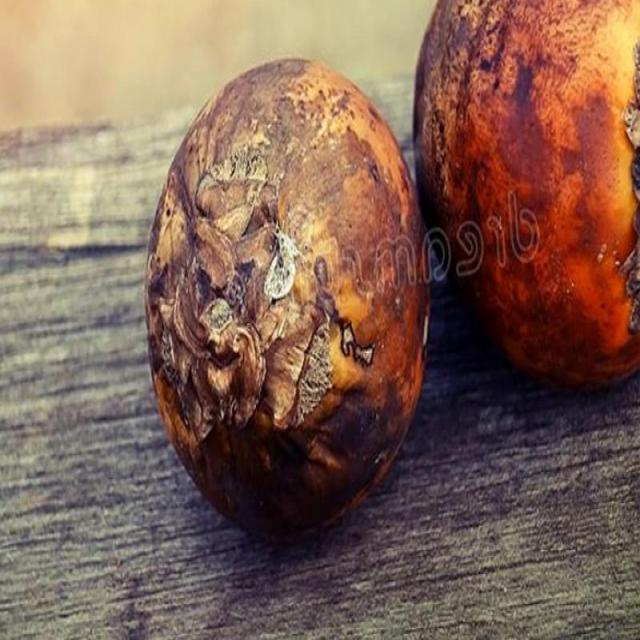damaged: (144, 59, 432, 546), (413, 0, 639, 393)
